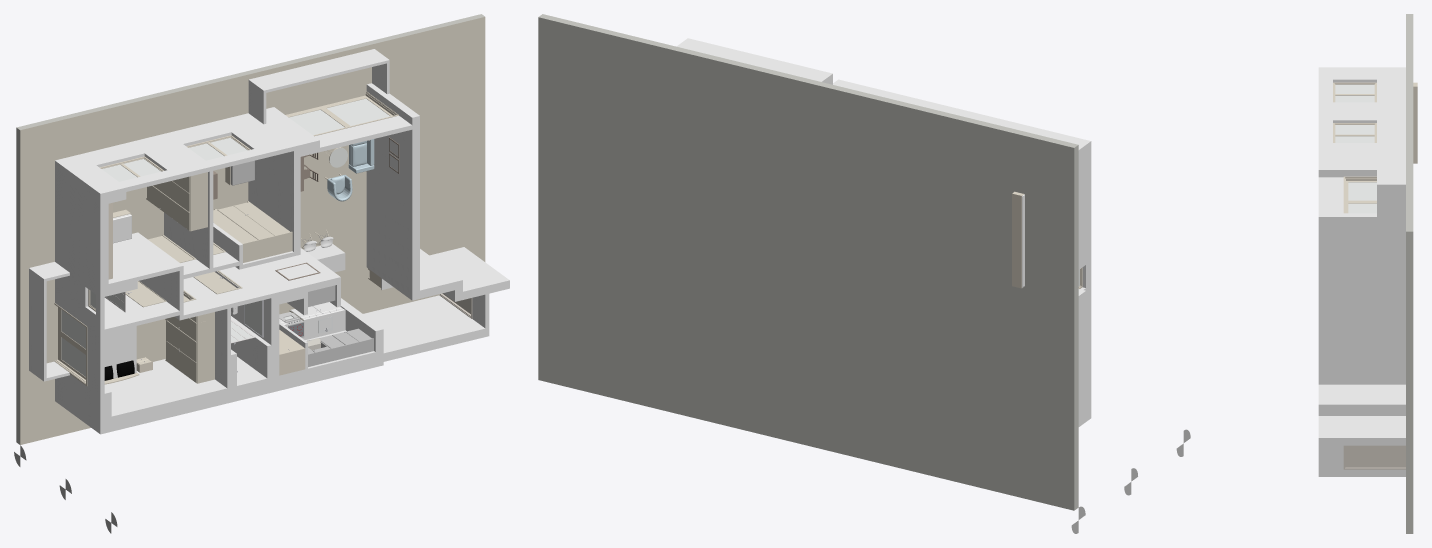
Rendered from casa.glb.
The picture shows the model from 3 angles, left to right: view 1: azimuth 30°, elevation 25°; view 2: azimuth 150°, elevation 25°; view 3: azimuth 270°, elevation 25°; orthographic projection. The views are drawn at different scales.
Visible parts, largest first — view 1: SLA - 001 (×2), SW - 003, SW - 007, FU - 020 (×3), SW - 013, SW - 005, SW - 044, SW - 012, SW - 043, FU - 021 (×3), DOO - 002 (×2), SW - 037 (+36 smaller); view 2: SLA - 001, SW - 037, SW - 013, FU - 035, SW - 040, SW - 044; view 3: SW - 007, SLA - 001, SW - 044, SW - 008, SW - 009, SW - 037, DOO - 009, SW - 043, DOO - 002 (×2), SW - 011, SW - 014, WD - 002 (×2) (+7 smaller).
Part boxes in pixels (<box>): SLA - 001 (×2): <box>16,14,485,444</box>; SW - 003: <box>55,330,383,434</box>; SW - 007: <box>366,83,419,300</box>; FU - 020 (×3): <box>153,172,292,383</box>; SW - 013: <box>55,172,108,297</box>; SW - 005: <box>363,295,489,361</box>; SW - 044: <box>81,133,213,191</box>; SW - 012: <box>248,153,300,256</box>; SW - 043: <box>168,113,293,170</box>; FU - 021 (×3): <box>146,185,259,341</box>; DOO - 002 (×2): <box>285,91,398,136</box>; SW - 037: <box>251,49,389,92</box>; SLA - 001: <box>538,14,1078,510</box>; SW - 037: <box>676,38,829,81</box>; SW - 013: <box>1078,155,1091,269</box>; FU - 035: <box>1012,191,1024,288</box>; SW - 040: <box>1078,294,1085,413</box>; SW - 044: <box>954,109,1060,138</box>; SW - 007: <box>1318,213,1405,384</box>; SLA - 001: <box>1406,14,1413,533</box>; SW - 044: <box>1318,79,1405,120</box>; SW - 008: <box>1318,416,1405,445</box>; SW - 009: <box>1318,384,1405,412</box>; SW - 037: <box>1377,127,1405,187</box>; DOO - 009: <box>1343,445,1405,469</box>; SW - 043: <box>1318,120,1405,157</box>; DOO - 002 (×2): <box>1343,176,1376,213</box>; SW - 011: <box>1318,158,1376,177</box>; SW - 014: <box>1318,67,1405,79</box>; WD - 002 (×2): <box>1333,82,1376,102</box>.
Size of the model in its own units: 57.96 by 40.12 by 22.31.
